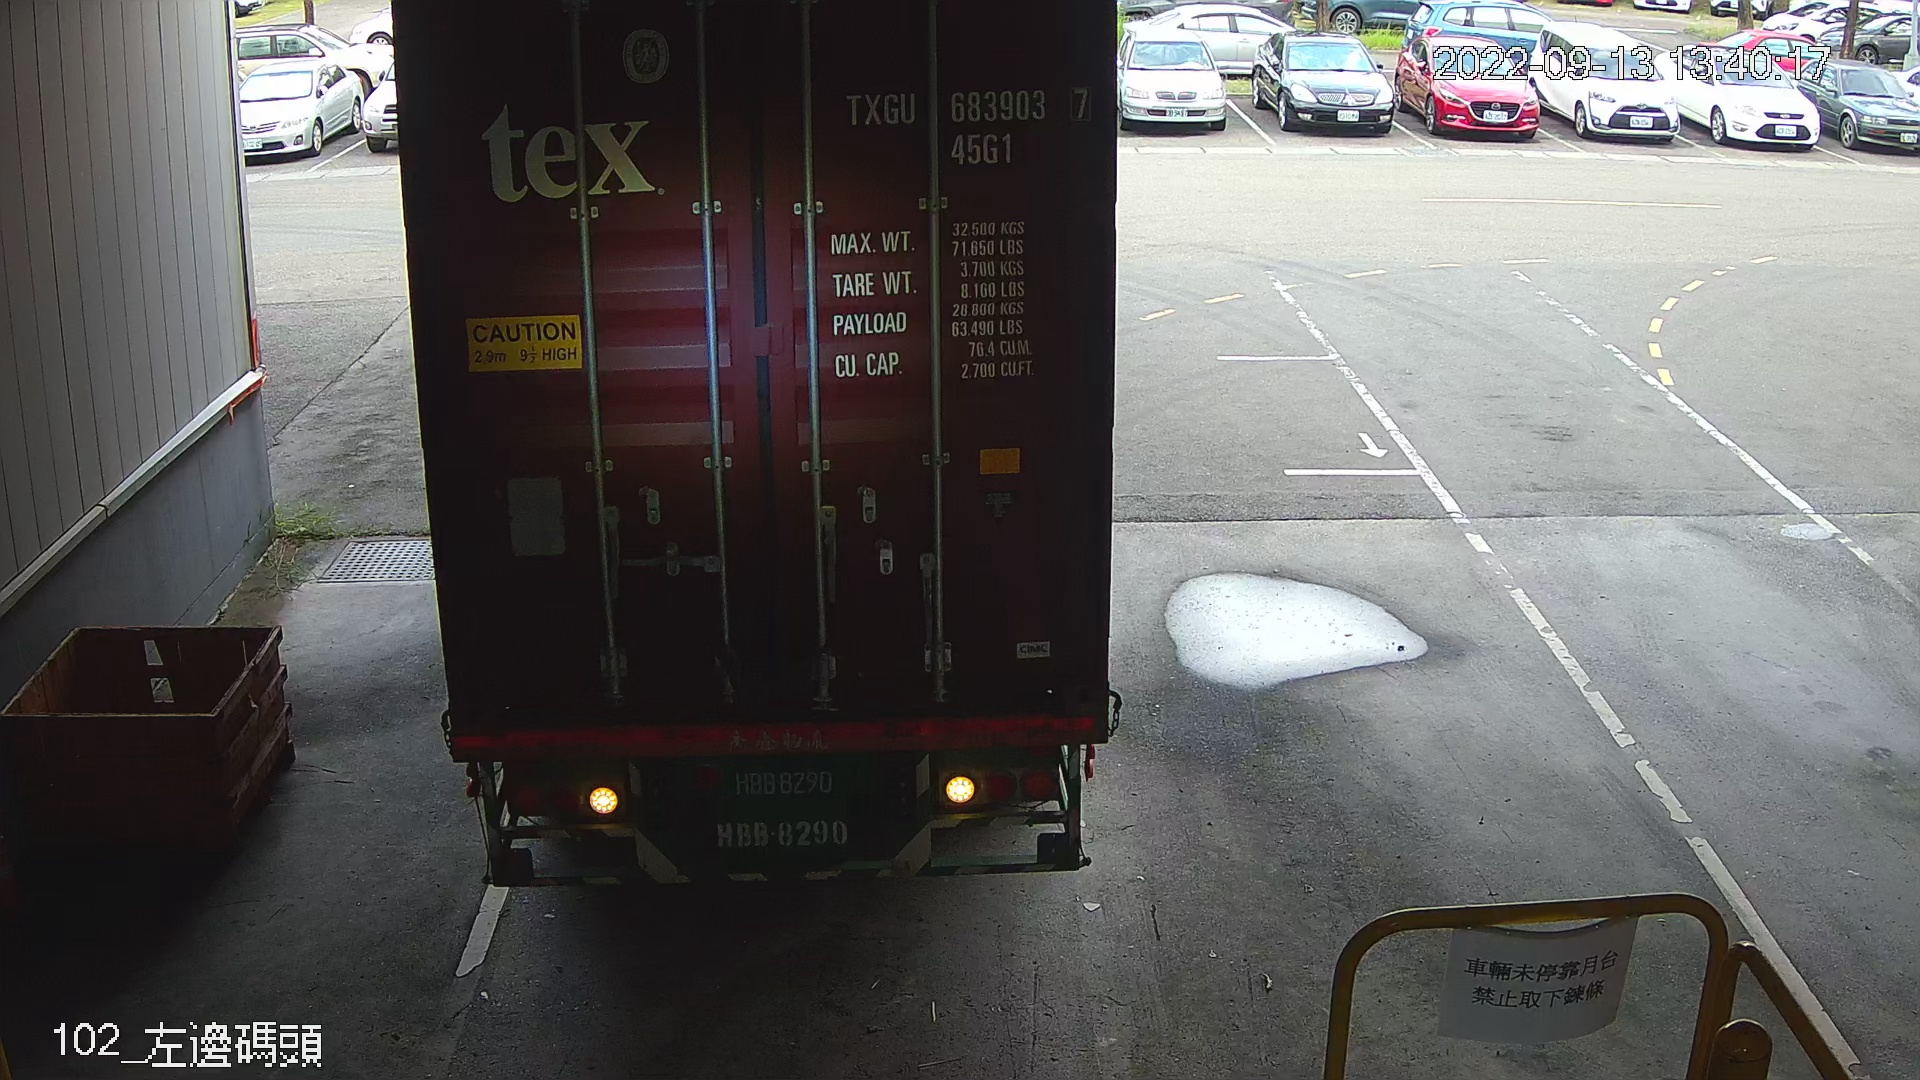container: (835, 80, 1100, 173)
